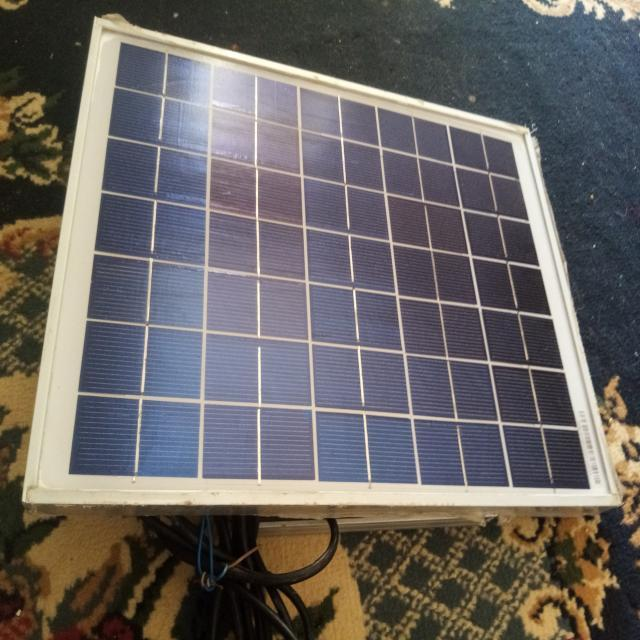no faulty: (26, 21, 617, 501)
